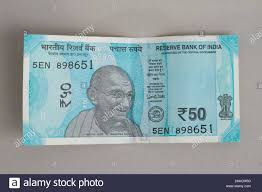fifty: (31, 56, 220, 124)
